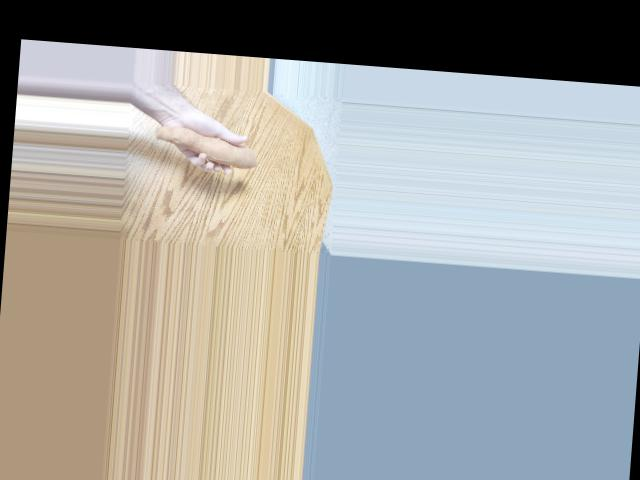sweet_potato: (155, 124, 261, 170)
